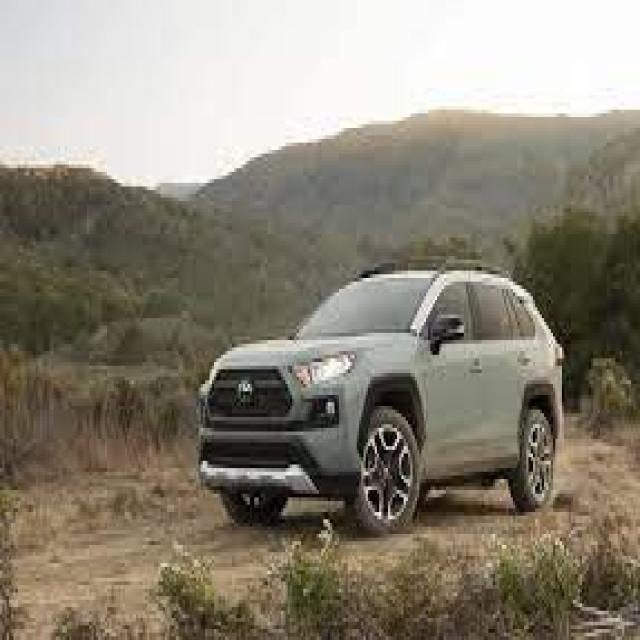light_vehicle: (196, 267, 566, 538)
